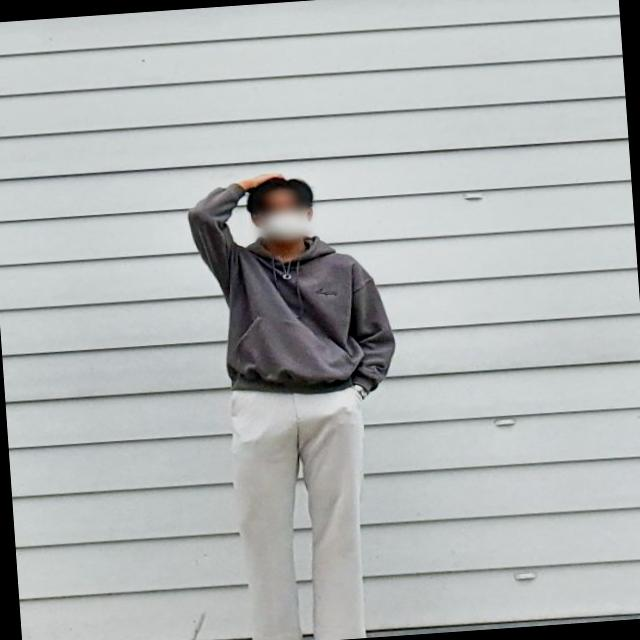cottonpants: (219, 375, 374, 640)
hoodies: (182, 168, 396, 402)
